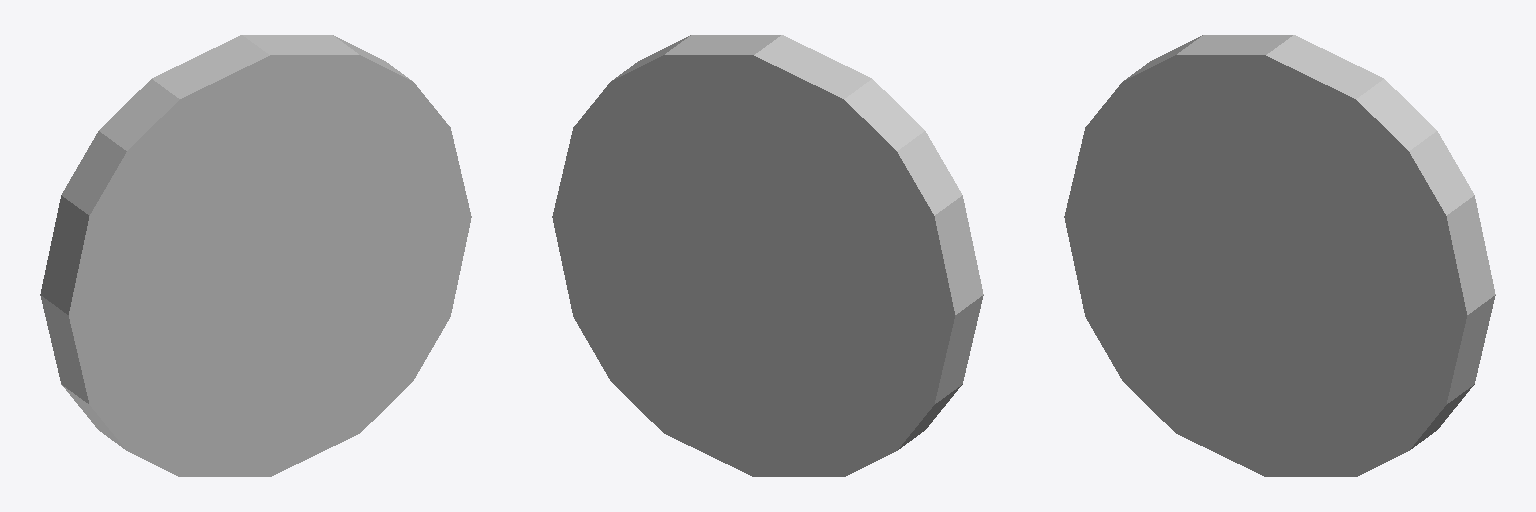
The model's file is Coin.obj.
The picture shows the model from 3 angles: view 1: azimuth 30°, elevation 25°; view 2: azimuth 150°, elevation 25°; view 3: azimuth 330°, elevation 25°; orthographic projection.
Visible parts, largest first — view 1: Coin.001_Cube.006; view 2: Coin.001_Cube.006; view 3: Coin.001_Cube.006.
Boxes of the visible parts, box(x1,y1,x2,y2) form: Coin.001_Cube.006: box(40, 35, 471, 476); Coin.001_Cube.006: box(552, 35, 983, 476); Coin.001_Cube.006: box(1064, 35, 1495, 476).
Bounding box in the file's own units: 2.32 × 2.32 × 0.2826.